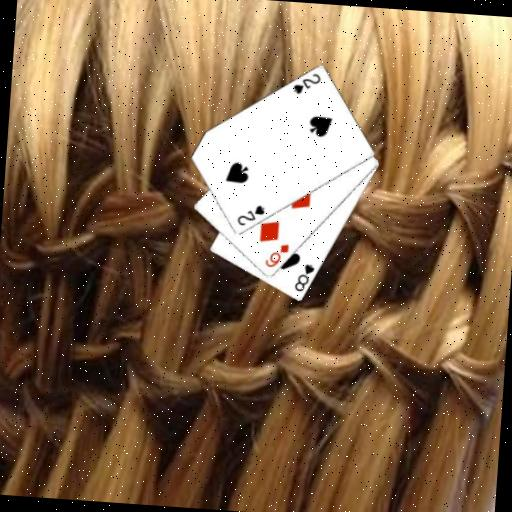2S: (234, 200, 267, 229), (289, 69, 322, 98)
6D: (262, 240, 291, 271)
8S: (291, 261, 316, 295)
